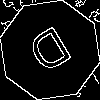D: (25, 25, 79, 83)
